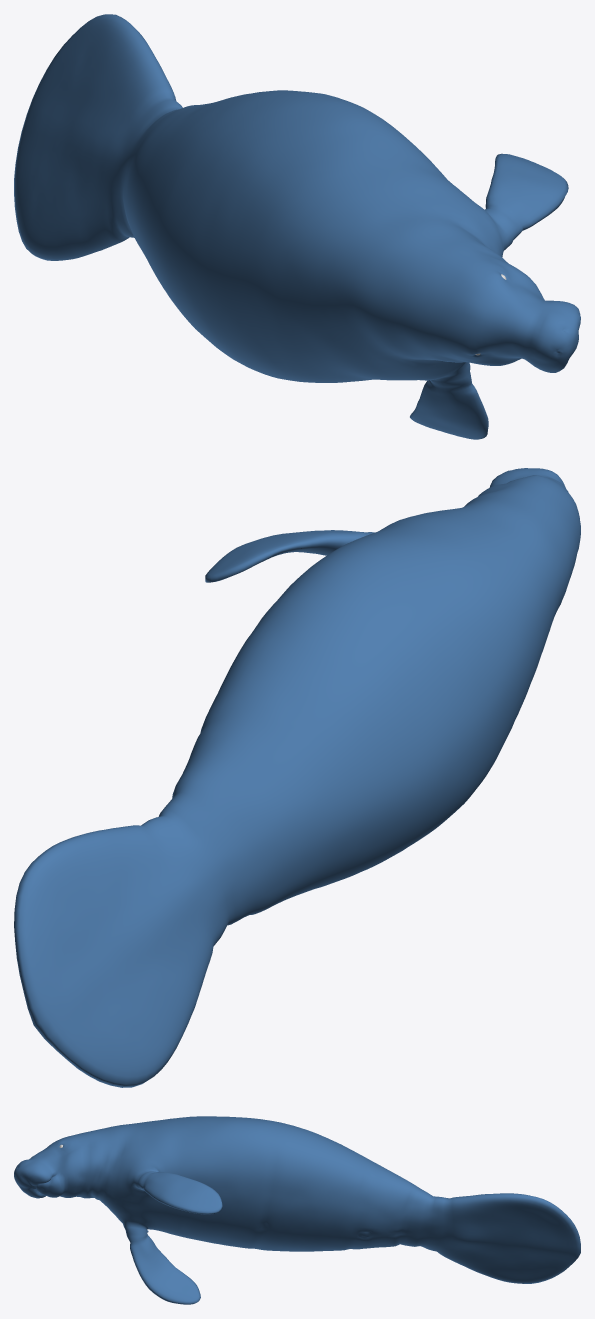
Rendered from peixe_boi_model.glb.
3 views of the same model, one above another, from view 1: azimuth 30°, elevation 25°; view 2: azimuth 150°, elevation 25°; view 3: azimuth 270°, elevation 25° (orthographic). The views are drawn at different scales.
Parts seen in each view (by area): view 1: object_2; view 2: object_2; view 3: object_2.
Part boxes in pixels (box(x1,y1,x2,y2)): object_2: box(14, 14, 580, 439); object_2: box(14, 468, 580, 1087); object_2: box(14, 1116, 580, 1304).
Bounding box in the file's own units: 0.9314 × 0.931 × 2.76.
